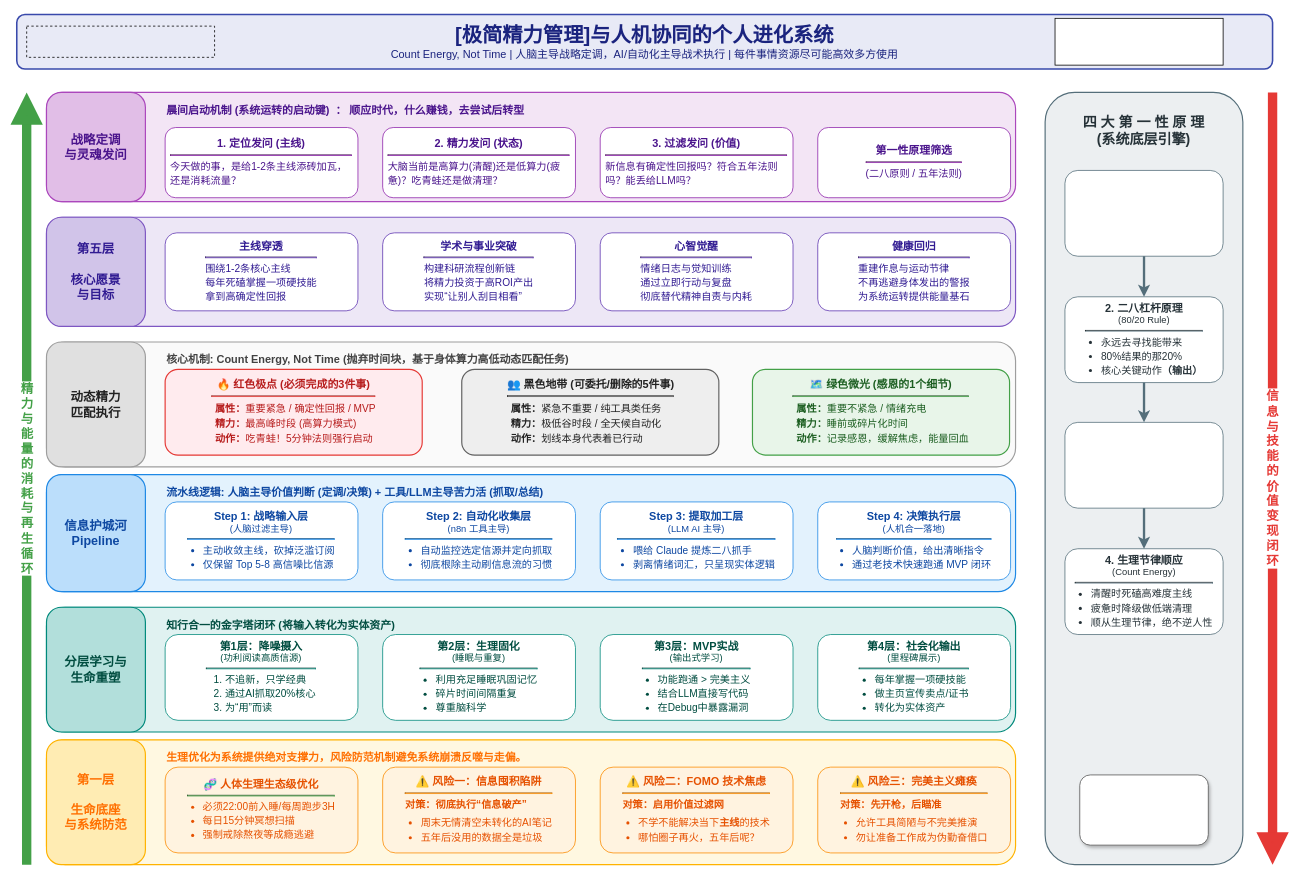
The diagram is 1300 pixels wide and 892 high, and some of its shapes have lost their labels. Here are the shapes that lost their labels. From the top down, the centre of each, then its label:
(x=120, y=41): C1.02.b_时间精力_管理策略
(x=1138, y=41): 停下来，问自己：刚才在干什么？应该放在框架的哪里？
(x=1143, y=213): 1. 价值时间轴原理 (五年法则) 剥离眼前的紧急感 用“五年后是否还有价值” 彻底剔除80%的伪需求
(x=1143, y=465): 3. 人机协作边界 (楚河汉界) 人脑掌控主观长期战略 决不让权给AI定方向 LLM掌控客观战术推演
(x=1144, y=811): Tools List [深思]: 铅笔，纸 [番茄]: 暂停回顾
